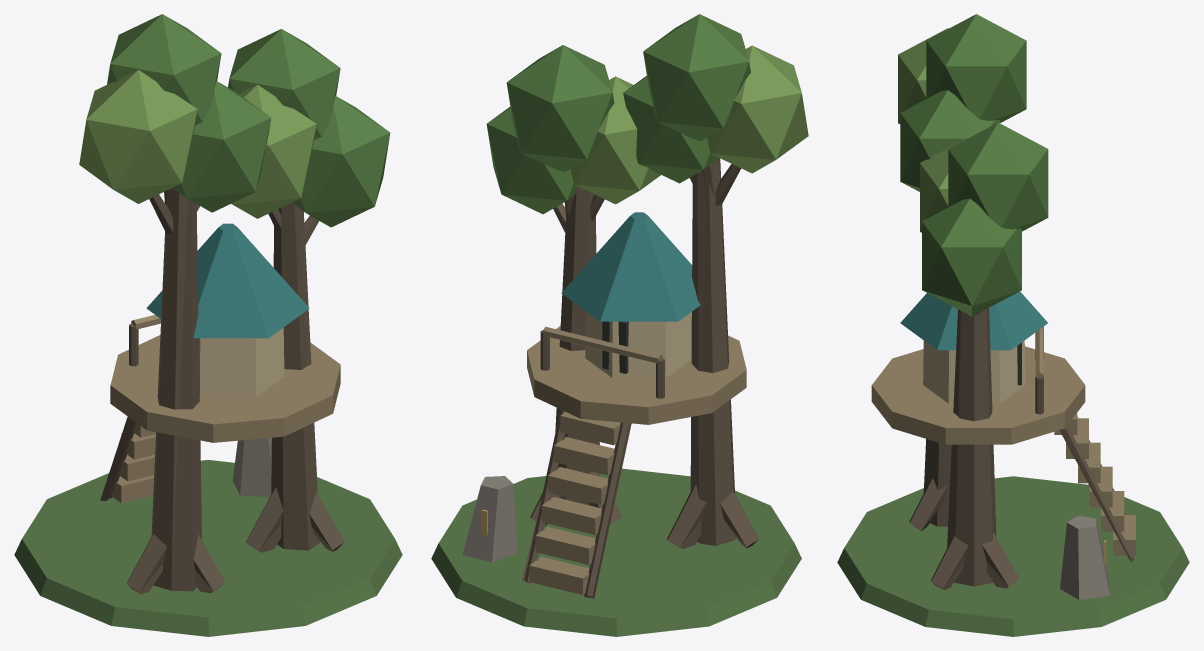
The model's file is Faction_ElfGrove.fbx.
3 views of the same model, side by side, from view 1: azimuth 30°, elevation 25°; view 2: azimuth 150°, elevation 25°; view 3: azimuth 270°, elevation 25° (orthographic). The views are drawn at different scales.
Parts seen in each view (by area): view 1: Faction_ElfGrove; view 2: Faction_ElfGrove; view 3: Faction_ElfGrove.
Boxes of the visible parts, x1,y1,x2,y2 form: Faction_ElfGrove: (14,14,402,636); Faction_ElfGrove: (431,14,808,636); Faction_ElfGrove: (837,14,1189,636).
Bounding box in the file's own units: 1.52 × 2.47 × 1.52.
